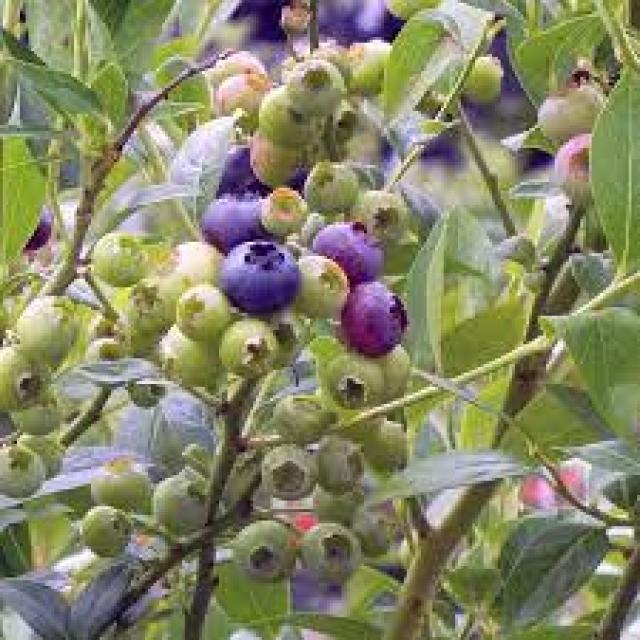BlueBerry - v1: (213, 230, 304, 316), (307, 216, 384, 293), (15, 287, 86, 370), (526, 77, 609, 148), (342, 279, 412, 361), (224, 512, 298, 589), (204, 310, 282, 378), (196, 185, 273, 253), (80, 449, 154, 518), (153, 233, 224, 299), (290, 248, 353, 322), (208, 68, 282, 131), (168, 282, 239, 347), (319, 342, 384, 412), (296, 518, 361, 588), (259, 85, 327, 151), (85, 228, 154, 293), (358, 409, 421, 478), (341, 179, 404, 248), (154, 470, 216, 540), (555, 128, 606, 213), (256, 438, 321, 501), (0, 344, 57, 415), (282, 57, 347, 119), (245, 131, 310, 193), (302, 162, 361, 225), (80, 498, 136, 563), (202, 37, 273, 88), (310, 438, 370, 498), (120, 270, 177, 333), (344, 34, 396, 100), (259, 179, 313, 242), (375, 341, 421, 410), (0, 441, 51, 501), (9, 398, 68, 449), (455, 51, 504, 111), (20, 429, 71, 484), (76, 333, 134, 378), (353, 510, 398, 560), (128, 370, 174, 418)
